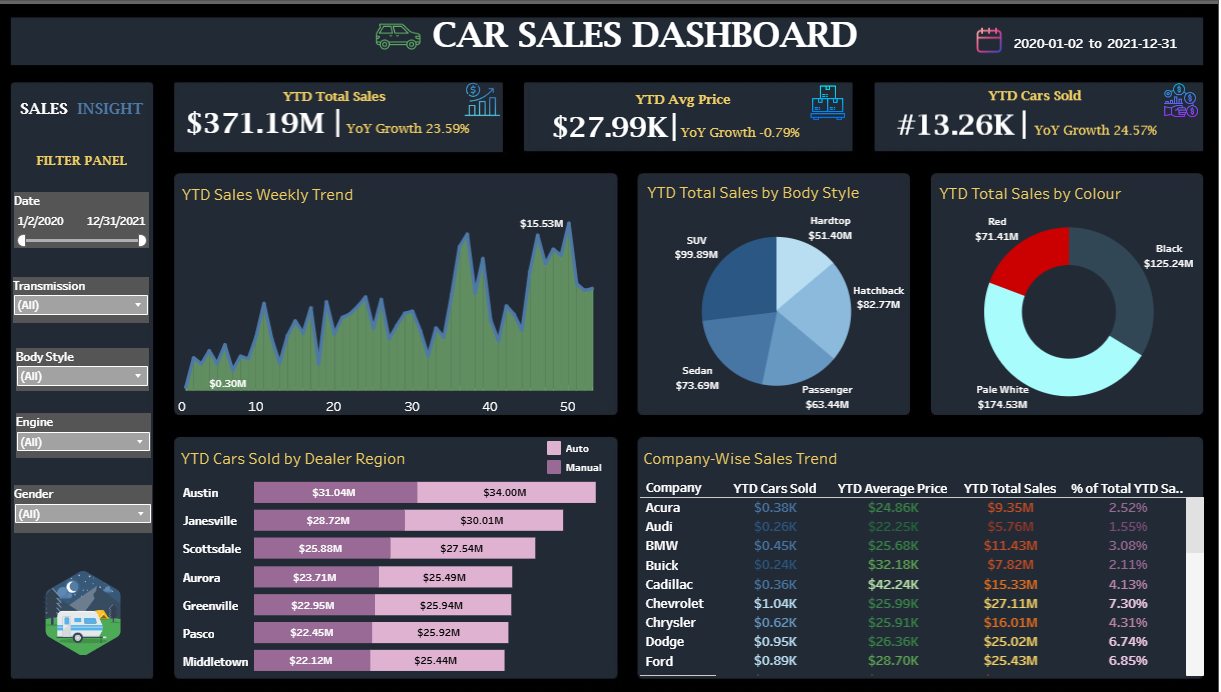

This screenshot's page, from the dashboard's own definition file:
{"tool":"tableau","page":{"name":"Car Sales Dashboard","canvas":[1000,1000],"units":"permille","ordinal":0},"visuals":[{"type":"image","param":"C:/Users/HP/Downloads/Car Sales Background.jpg","box":[6.2,10.7,987.7,978.7]},{"type":"image","param":"C:/Users/HP/Downloads/Images Used/Car Icon.png","box":[306.9,30.7,50.8,73.3]},{"type":"text","box":[346.9,33.3,366.9,65.3]},{"type":"worksheet","title":"Date Range","mark":"Automatic","box":[806.9,48,165.4,54.7]},{"type":"image","param":"C:/Users/HP/Downloads/Images Used/calendar.png","box":[794.6,53.3,23.1,38.7]},{"type":"image","param":"C:/Users/HP/Downloads/Images Used/Sales Icon.png","box":[381.5,128,36.9,53.3]},{"type":"worksheet","title":"YTD Total Sales","mark":"Automatic","box":[155.4,130.7,257.7,90.7]},{"type":"worksheet","title":"YTD Cars Sold","mark":"Automatic","box":[716.1,132,257.7,88]},{"type":"image","param":"C:/Users/HP/Downloads/Images Used/Cars Sold Icon.png","box":[941.5,132,36.9,48]},{"type":"image","param":"C:/Users/HP/Downloads/Images Used/Avg Price Icon.png","box":[659.2,133.3,35.4,52]},{"type":"worksheet","title":"YTD Average Price","mark":"Automatic","box":[430.8,138.7,263.1,85.3]},{"type":"text","box":[23.1,148,112.3,40]},{"type":"text","box":[23.1,220,112.3,40]},{"type":"worksheet","title":"YTD Total Sales by Body Style","mark":"Pie","box":[529.2,258.7,213.1,329.3]},{"type":"worksheet","title":"YTD Total Sales by Colour","mark":"Pie","rows":["Calculation_280912073506795521","Calculation_280912073506869251"],"box":[763.1,260,213.8,328]},{"type":"worksheet","title":"YTD Sales Weekly Trend","mark":"Area","rows":["Calculation_481322254813163520","Calculation_481322254813163520"],"cols":["Date"],"box":[156.2,261.3,350,336]},{"type":"filter","title":"YTD Sales Weekly Trend","param":"[federated.1y8nn720xwfhvz1brbw020a54eln].[none:Date:qk]","box":[24.6,282.7,108.5,78.7]},{"type":"filter","title":"YTD Sales Weekly Trend","param":"[federated.1y8nn720xwfhvz1brbw020a54eln].[none:Transmission:nk]","box":[23.9,401.3,109.2,64]},{"type":"filter","title":"YTD Sales Weekly Trend","param":"[federated.1y8nn720xwfhvz1brbw020a54eln].[none:Body Style:nk]","box":[26.2,500,106.9,60]},{"type":"filter","title":"YTD Sales Weekly Trend","param":"[federated.1y8nn720xwfhvz1brbw020a54eln].[none:Engine:nk]","box":[26.2,590.7,108.5,61.3]},{"type":"legend","title":"YTD Cars Sold by Dealer Region","param":"[federated.1y8nn720xwfhvz1brbw020a54eln].[none:Transmission:nk]","box":[450,625.3,55.4,53.3]},{"type":"worksheet","title":"YTD Cars Sold by Dealer Region","mark":"Automatic","rows":["Dealer_Region"],"cols":["Calculation_481322254813163520"],"box":[155.4,629.3,349.2,325.3]},{"type":"worksheet","title":"Company-Wise Sales Trend","mark":"Automatic","rows":["Company"],"box":[526.1,629.3,452.3,326.7]},{"type":"filter","title":"YTD Sales Weekly Trend","param":"[federated.1y8nn720xwfhvz1brbw020a54eln].[none:Gender:nk]","box":[24.6,690.7,110.8,66.7]},{"type":"image","param":"C:/Users/HP/Downloads/Images Used/moon.png","box":[30,809.3,99.2,117.3]}]}

Visuals, with their boxes on the dashboard's canvas, which has no fixed pixel size, in thousandths of its width and height (x1, y1, x2, y2). These are canvas units, not pixel positions in the 1221x692 screenshot, which may show the page scaled, cropped or inside an application window:
image: box(6, 11, 994, 989)
image: box(307, 31, 358, 104)
text: box(347, 33, 714, 99)
"Date Range" worksheet: box(807, 48, 972, 103)
image: box(795, 53, 818, 92)
image: box(382, 128, 418, 181)
"YTD Total Sales" worksheet: box(155, 131, 413, 221)
"YTD Cars Sold" worksheet: box(716, 132, 974, 220)
image: box(942, 132, 978, 180)
image: box(659, 133, 695, 185)
"YTD Average Price" worksheet: box(431, 139, 694, 224)
text: box(23, 148, 135, 188)
text: box(23, 220, 135, 260)
"YTD Total Sales by Body Style" worksheet (Pie marks): box(529, 259, 742, 588)
"YTD Total Sales by Colour" worksheet (Pie marks): box(763, 260, 977, 588)
"YTD Sales Weekly Trend" worksheet (Area marks): box(156, 261, 506, 597)
"YTD Sales Weekly Trend" filter: box(25, 283, 133, 361)
"YTD Sales Weekly Trend" filter: box(24, 401, 133, 465)
"YTD Sales Weekly Trend" filter: box(26, 500, 133, 560)
"YTD Sales Weekly Trend" filter: box(26, 591, 135, 652)
"YTD Cars Sold by Dealer Region" legend: box(450, 625, 505, 679)
"YTD Cars Sold by Dealer Region" worksheet: box(155, 629, 505, 955)
"Company-Wise Sales Trend" worksheet: box(526, 629, 978, 956)
"YTD Sales Weekly Trend" filter: box(25, 691, 135, 757)
image: box(30, 809, 129, 927)
